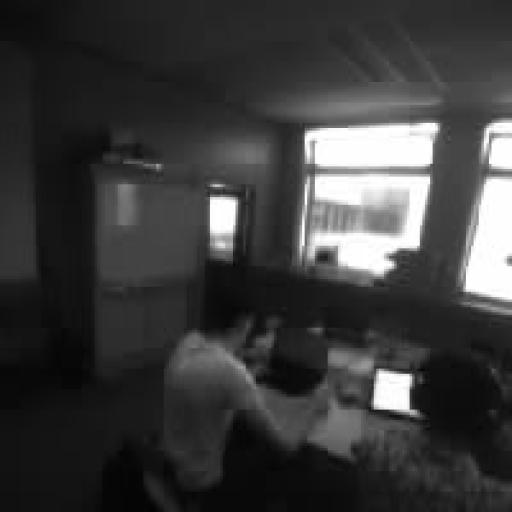human: (162, 310, 355, 511), (356, 351, 511, 511)
